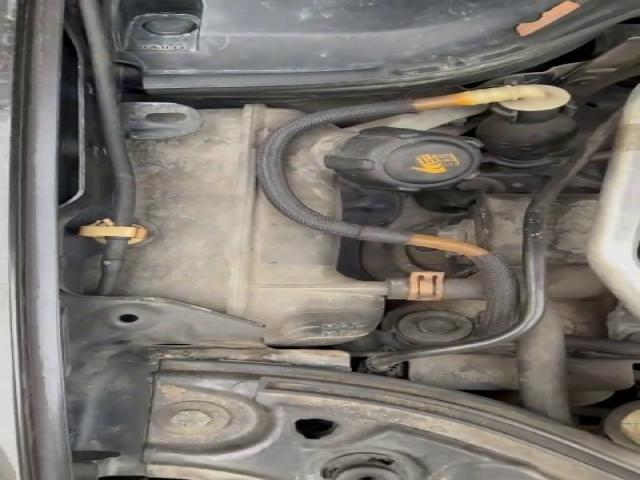antifreeze_tank: (121, 105, 389, 345), (285, 126, 479, 217)
